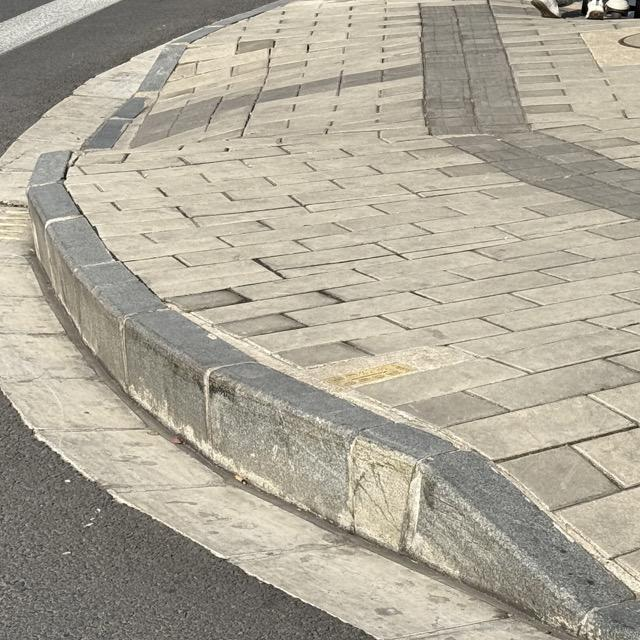curb: (30, 156, 639, 639), (81, 0, 288, 150)
